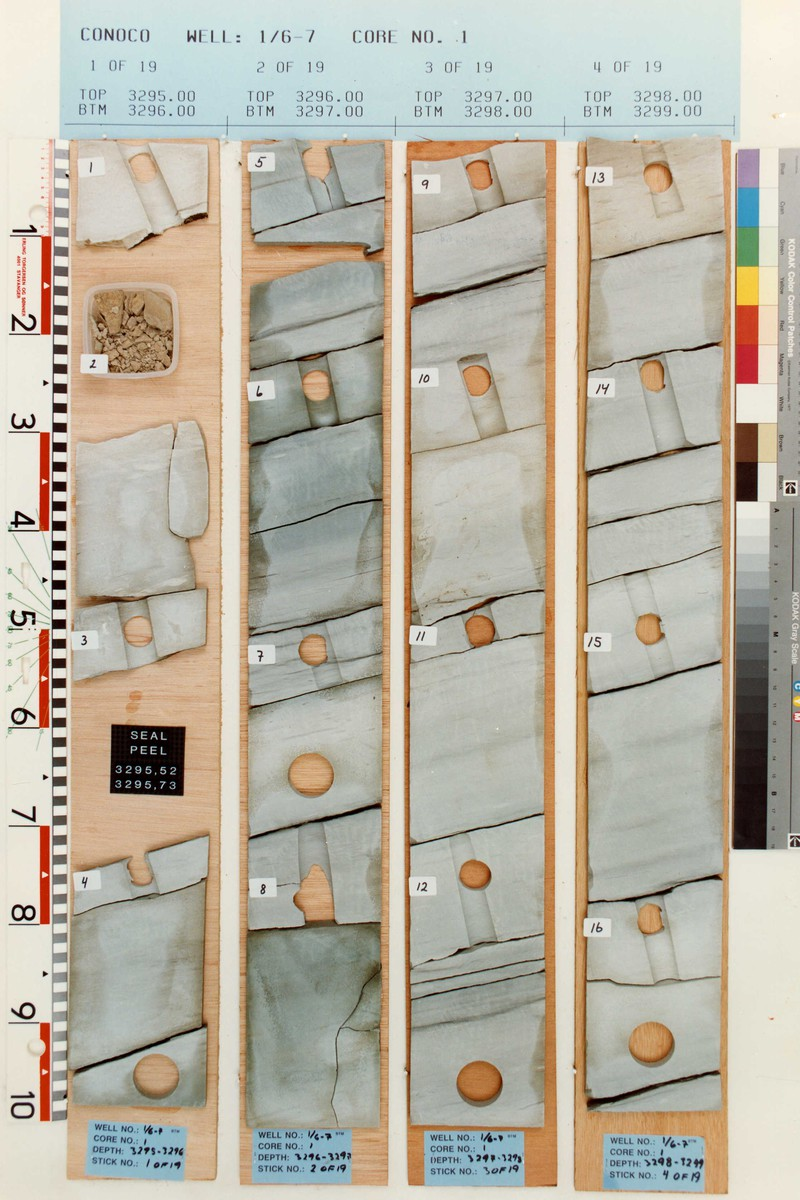core: (404, 140, 551, 1132), (583, 137, 721, 1116), (252, 141, 383, 1134), (72, 832, 209, 1111), (76, 420, 209, 685), (78, 141, 209, 254), (84, 285, 179, 385)
